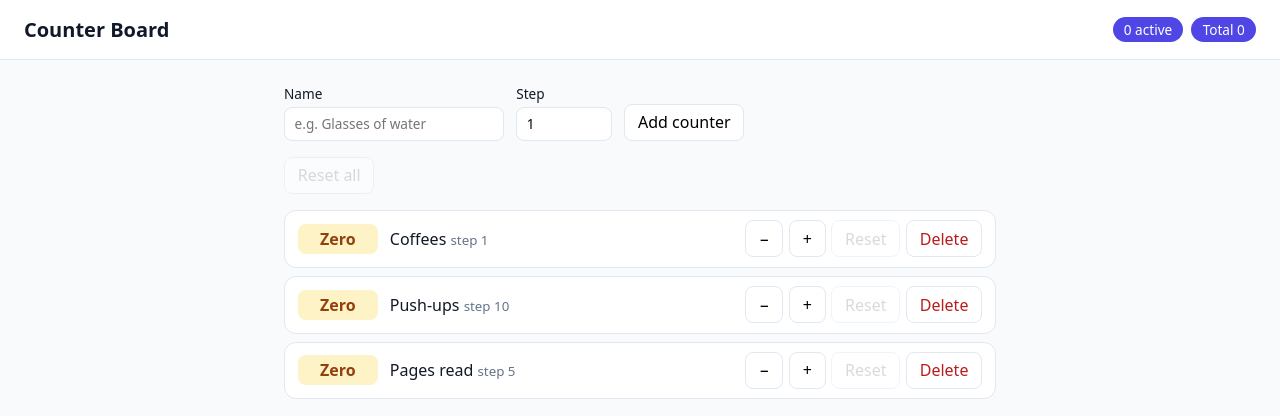
Counter Board › counts, totals and resets
The image size is (1280, 416).
Click the button named "Increase Push-ups by 10".
click(807, 304)  # box left=789, top=286, right=826, bottom=323
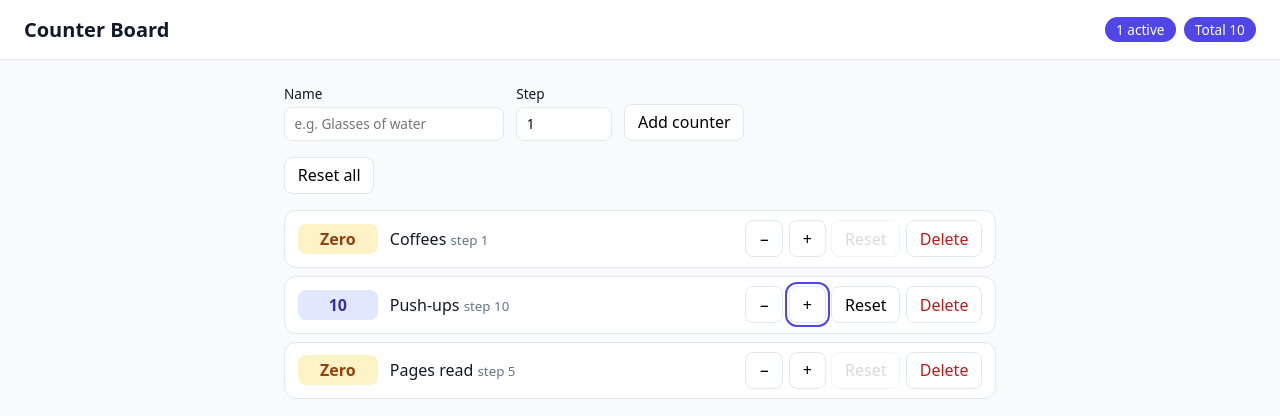
Click the button named "Increase Coffees by 1".
click(807, 239)  # box left=789, top=220, right=826, bottom=257
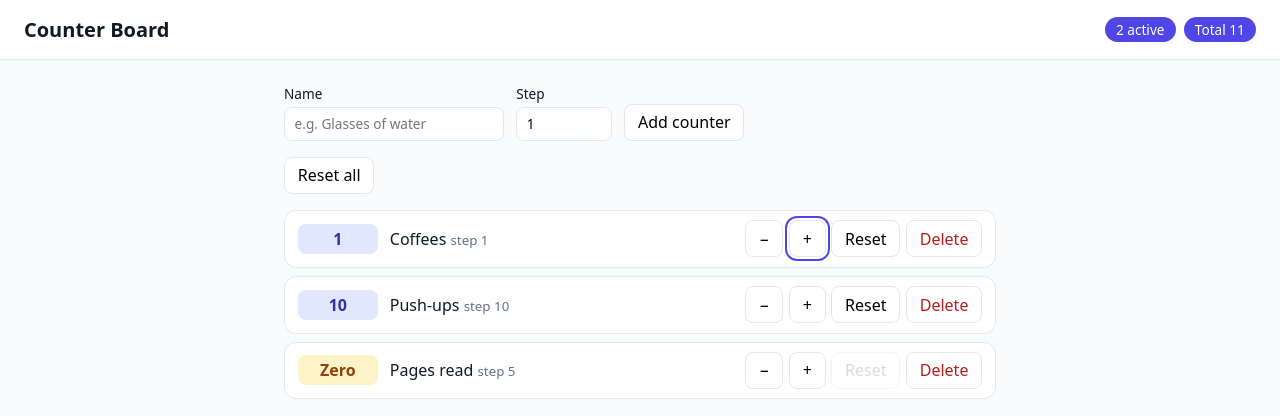
Check: the text "2 active" is shown, box left=1105, top=17, right=1176, bottom=42
Check: the text "Total 11" is shown, box left=1184, top=17, right=1256, bottom=42
Click the button "Reset all".
click(329, 175)  # box left=284, top=157, right=374, bottom=194
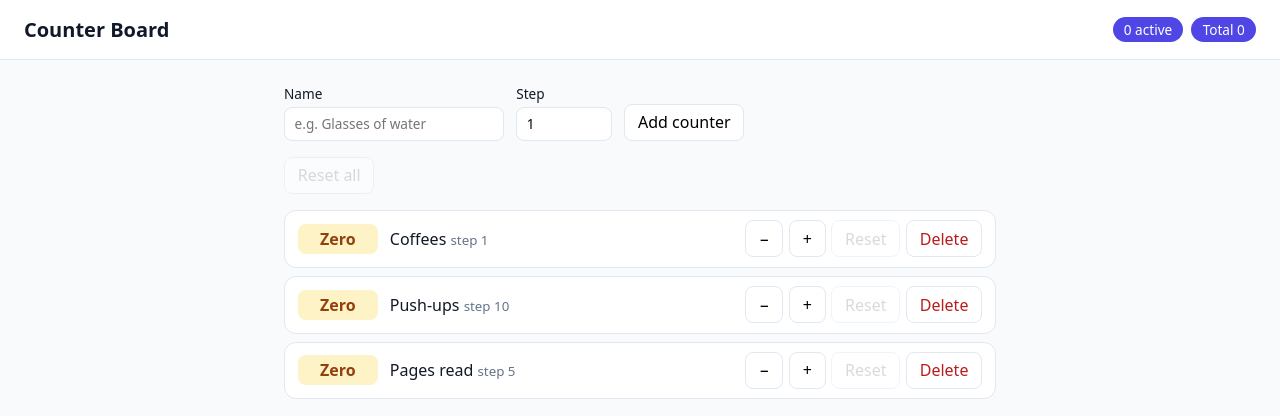
Check: the text "0 active" is shown, box left=1113, top=17, right=1183, bottom=42
